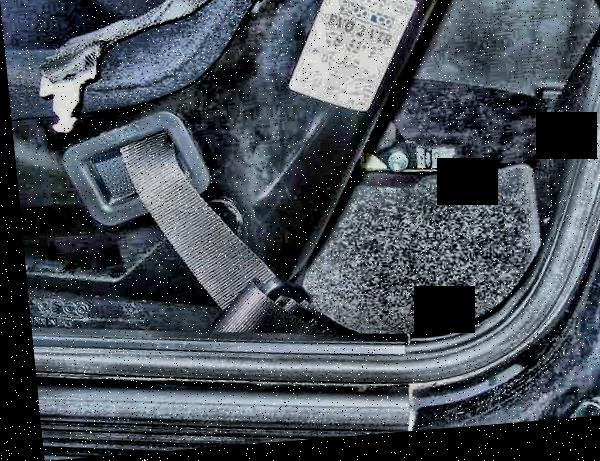seatbelt: (94, 106, 321, 358)
